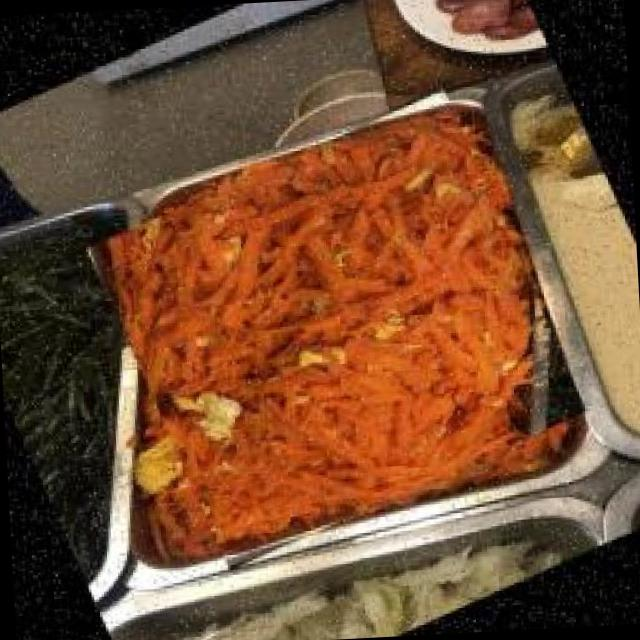carrot_eggs: (78, 81, 595, 576)
chinese_sausage: (413, 0, 541, 64)
